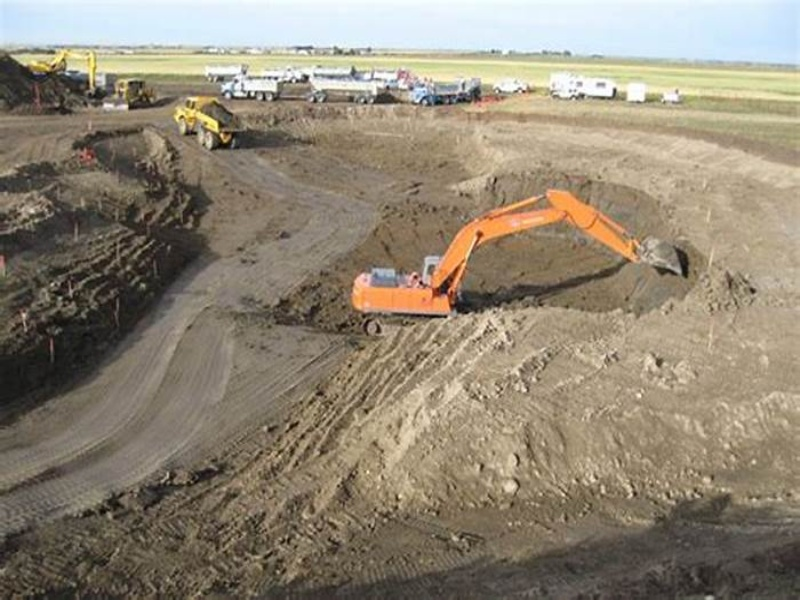excavator: (350, 185, 685, 333), (23, 47, 99, 96)
vehicle: (171, 95, 250, 153), (409, 78, 483, 109), (219, 74, 285, 105), (304, 77, 379, 104), (103, 77, 154, 113), (490, 77, 532, 95)
